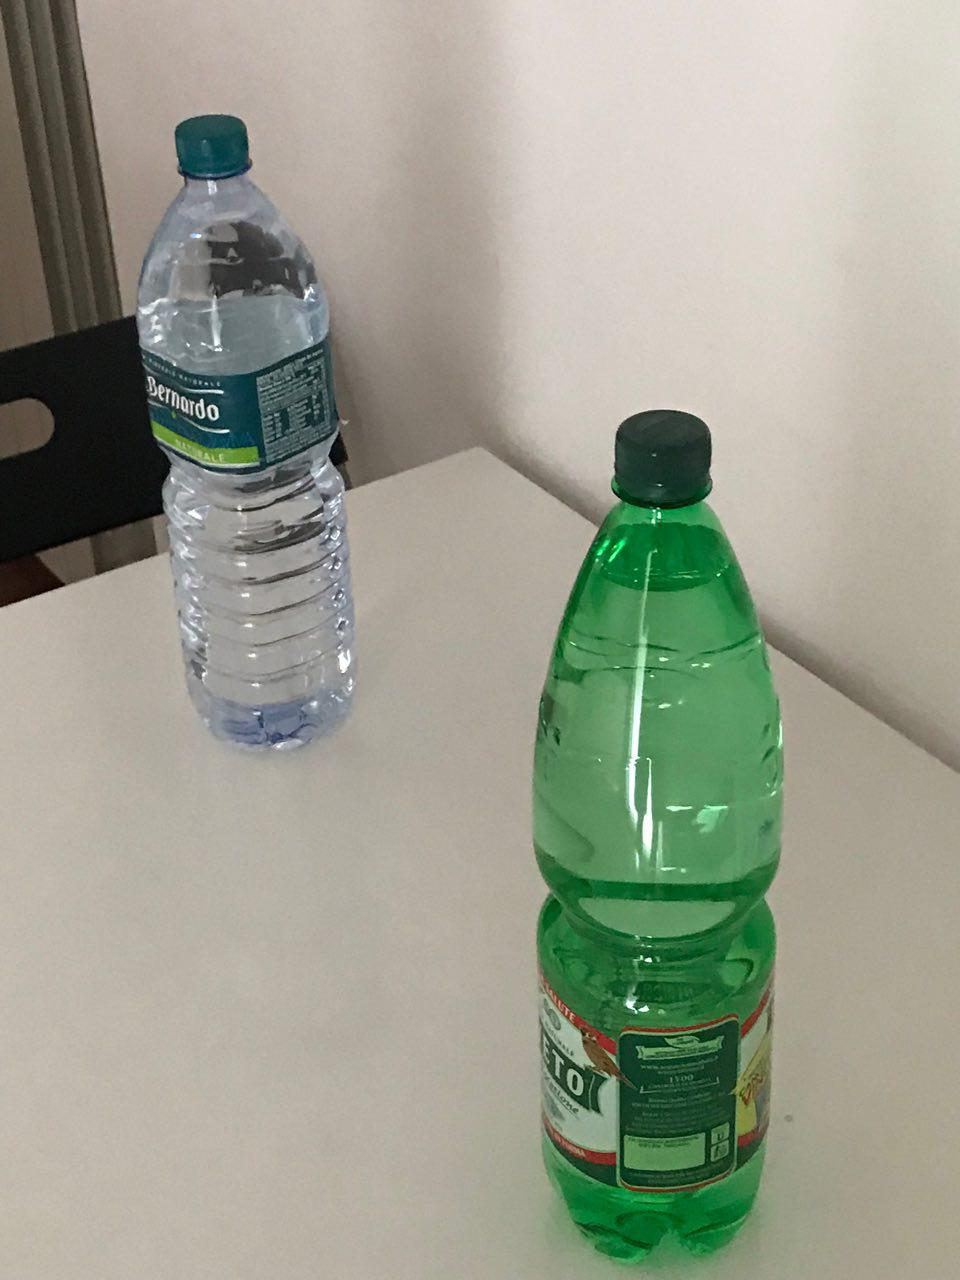san_bernardo: (133, 113, 360, 756)
